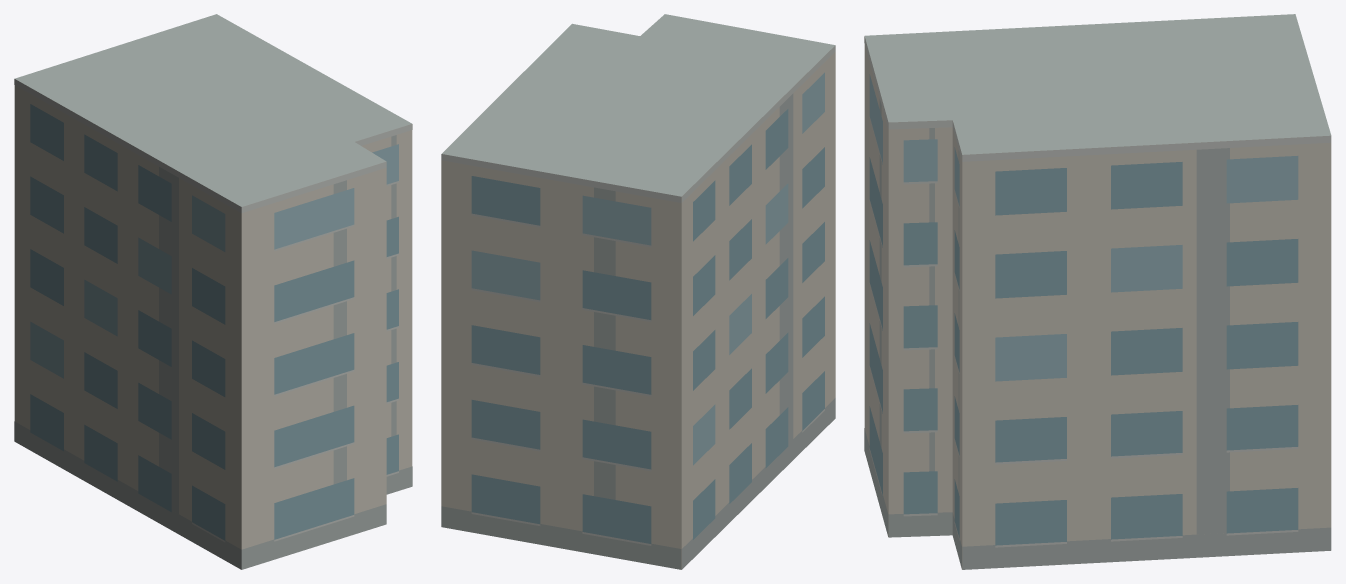
The model's file is survey-upis-32892260.glb.
3 renders of one model, left to right at view 1: azimuth 30°, elevation 25°; view 2: azimuth 150°, elevation 25°; view 3: azimuth 270°, elevation 25°, orthographic. The views are drawn at different scales.
Parts seen in each view (by area): view 1: survey-upis-32892260.tmp; view 2: survey-upis-32892260.tmp; view 3: survey-upis-32892260.tmp.
Part boxes in pixels (x1,y1,x2,y2): survey-upis-32892260.tmp: (14, 14, 412, 569); survey-upis-32892260.tmp: (441, 14, 835, 569); survey-upis-32892260.tmp: (864, 14, 1331, 569).
Bounding box in the file's own units: 10.42 × 14.3 × 14.59.
